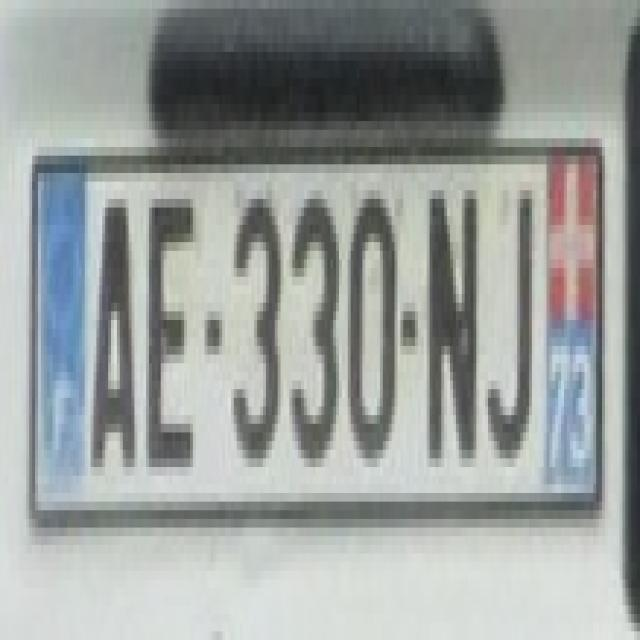EU: (28, 146, 603, 542)
France: (36, 161, 85, 506)
